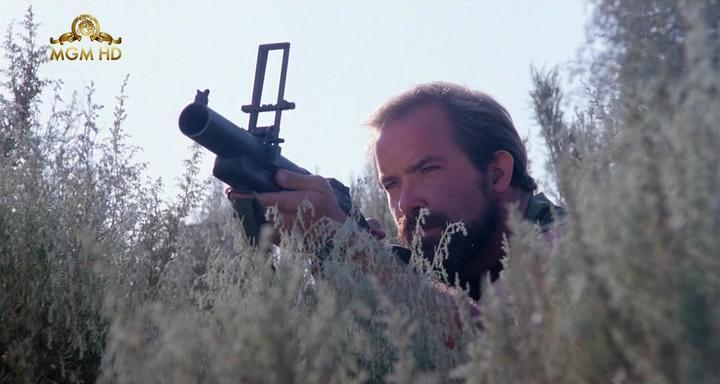gun: (165, 22, 431, 284)
